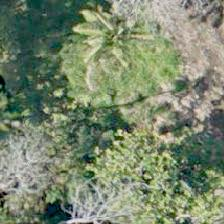Kelapa_Sawit: (71, 0, 161, 74)
